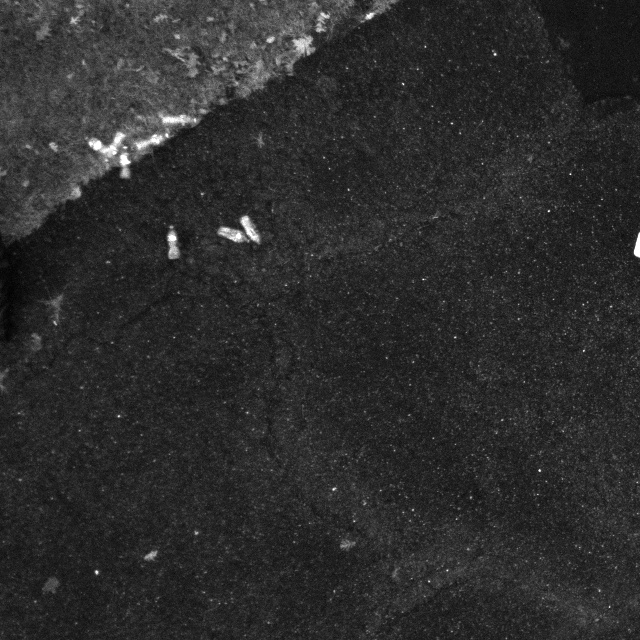bottle: (235, 209, 266, 247), (163, 217, 187, 262), (88, 128, 119, 161), (161, 107, 201, 130), (134, 128, 173, 151), (218, 224, 247, 253), (102, 128, 128, 154), (119, 146, 139, 177)
